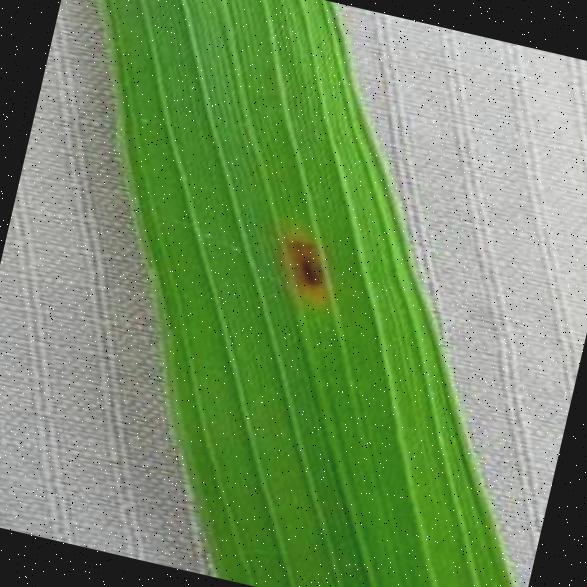Brown_Spot: (253, 205, 356, 315)
